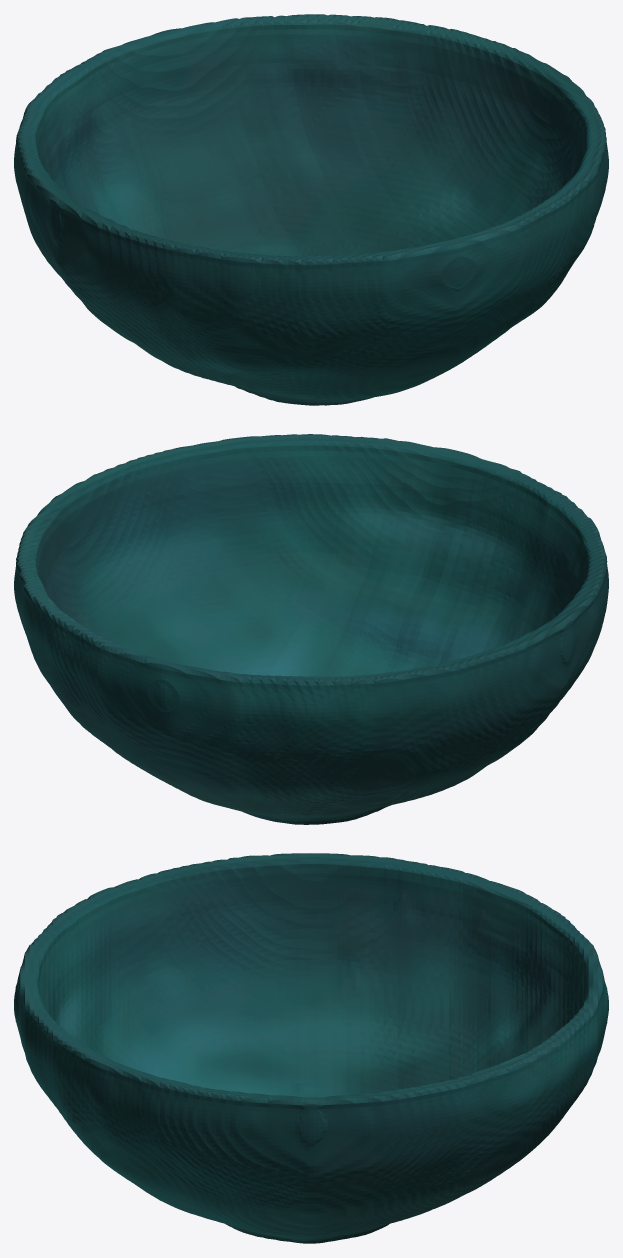
The picture shows the model from 3 angles, top to bottom: view 1: azimuth 30°, elevation 25°; view 2: azimuth 150°, elevation 25°; view 3: azimuth 270°, elevation 25°; orthographic projection.
Parts seen in each view (by area): view 1: geometry_0; view 2: geometry_0; view 3: geometry_0.
Boxes of the visible parts, left/top/right/bottom form: geometry_0: left=14, top=14, right=608, bottom=405; geometry_0: left=14, top=434, right=608, bottom=824; geometry_0: left=14, top=853, right=608, bottom=1243.
Bounding box in the file's own units: 1.6 × 0.6829 × 1.6.
